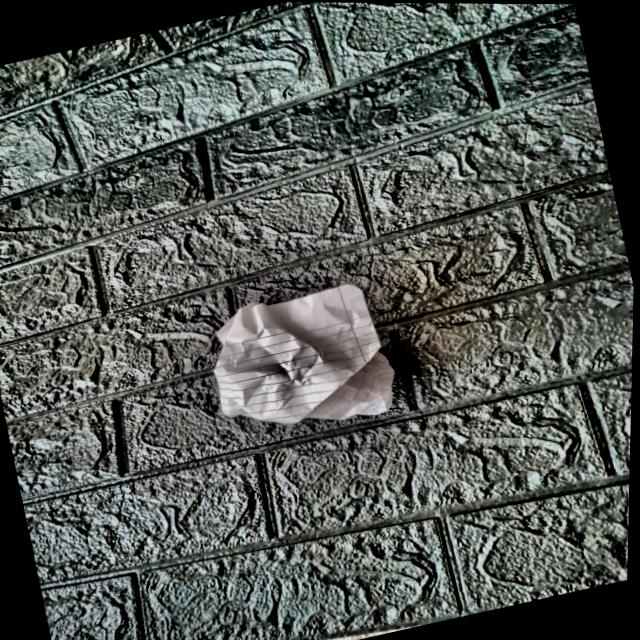Paper: (196, 271, 412, 449)
